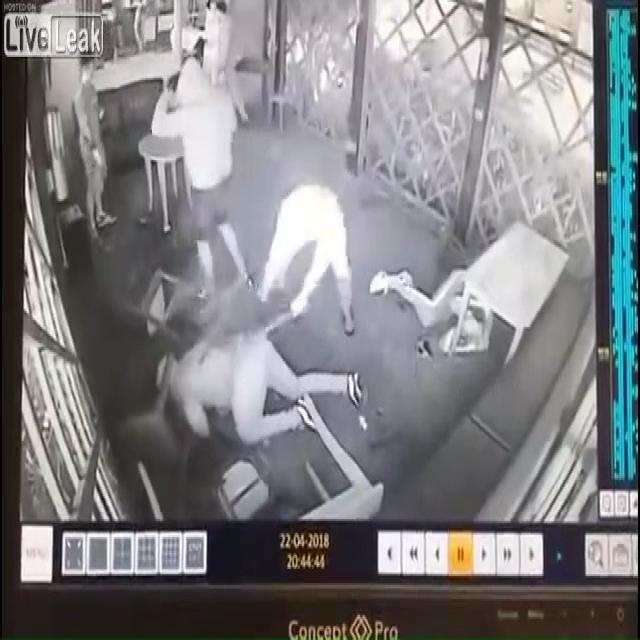fight: (153, 178, 364, 443)
